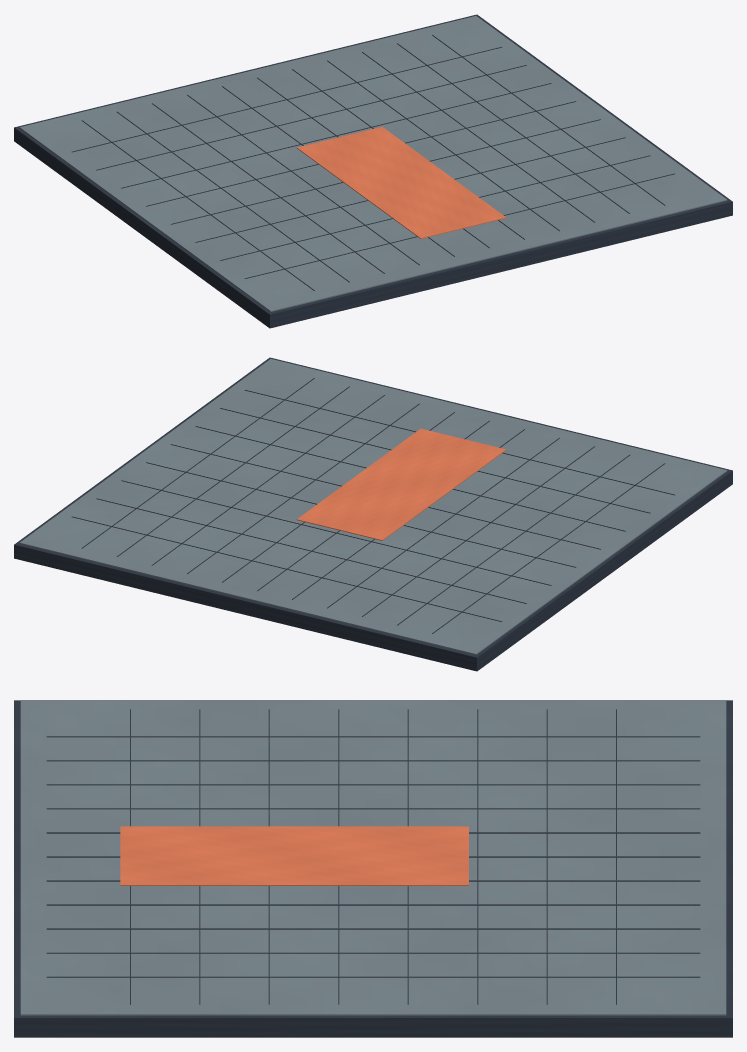
The model's file is atlas100-s021-a07.glb.
The picture shows the model from 3 angles, top to bottom: view 1: azimuth 30°, elevation 25°; view 2: azimuth 150°, elevation 25°; view 3: azimuth 270°, elevation 25°; orthographic projection. The views are drawn at different scales.
Visible parts, largest first — view 1: atlas100-s021-a07:part-001, atlas100-s021-a07:part-000, atlas100-s021-a07:part-021, atlas100-s021-a07:part-013, atlas100-s021-a07:part-014, atlas100-s021-a07:part-015, atlas100-s021-a07:part-020, atlas100-s021-a07:part-018, atlas100-s021-a07:part-019, atlas100-s021-a07:part-017, atlas100-s021-a07:part-016; view 2: atlas100-s021-a07:part-001, atlas100-s021-a07:part-000, atlas100-s021-a07:part-021, atlas100-s021-a07:part-013, atlas100-s021-a07:part-015, atlas100-s021-a07:part-014, atlas100-s021-a07:part-020, atlas100-s021-a07:part-016, atlas100-s021-a07:part-017, atlas100-s021-a07:part-018, atlas100-s021-a07:part-019; view 3: atlas100-s021-a07:part-001, atlas100-s021-a07:part-000, atlas100-s021-a07:part-021, atlas100-s021-a07:part-010, atlas100-s021-a07:part-009, atlas100-s021-a07:part-012, atlas100-s021-a07:part-002, atlas100-s021-a07:part-003, atlas100-s021-a07:part-004, atlas100-s021-a07:part-005, atlas100-s021-a07:part-011, atlas100-s021-a07:part-006 (+4 smaller).
Boxes of the visible parts, x1=… form: atlas100-s021-a07:part-001: x1=19, y1=16, x2=727, y2=311; atlas100-s021-a07:part-000: x1=14, y1=14, x2=732, y2=328; atlas100-s021-a07:part-021: x1=297, y1=126, x2=506, y2=238; atlas100-s021-a07:part-013: x1=72, y1=47, x2=502, y2=152; atlas100-s021-a07:part-014: x1=96, y1=65, x2=526, y2=170; atlas100-s021-a07:part-015: x1=121, y1=83, x2=551, y2=188; atlas100-s021-a07:part-020: x1=244, y1=173, x2=674, y2=278; atlas100-s021-a07:part-018: x1=195, y1=137, x2=625, y2=242; atlas100-s021-a07:part-019: x1=220, y1=155, x2=650, y2=260; atlas100-s021-a07:part-017: x1=170, y1=119, x2=600, y2=224; atlas100-s021-a07:part-016: x1=146, y1=101, x2=576, y2=206; atlas100-s021-a07:part-001: x1=19, y1=359, x2=727, y2=654; atlas100-s021-a07:part-000: x1=14, y1=357, x2=732, y2=671; atlas100-s021-a07:part-021: x1=296, y1=428, x2=506, y2=540; atlas100-s021-a07:part-013: x1=72, y1=516, x2=502, y2=621; atlas100-s021-a07:part-015: x1=121, y1=480, x2=551, y2=585; atlas100-s021-a07:part-014: x1=96, y1=498, x2=526, y2=603; atlas100-s021-a07:part-020: x1=244, y1=390, x2=674, y2=495; atlas100-s021-a07:part-016: x1=146, y1=462, x2=576, y2=567; atlas100-s021-a07:part-017: x1=170, y1=444, x2=600, y2=549; atlas100-s021-a07:part-018: x1=195, y1=426, x2=625, y2=531; atlas100-s021-a07:part-019: x1=220, y1=408, x2=650, y2=513; atlas100-s021-a07:part-001: x1=20, y1=701, x2=726, y2=1015; atlas100-s021-a07:part-000: x1=14, y1=700, x2=732, y2=1037; atlas100-s021-a07:part-021: x1=120, y1=826, x2=468, y2=885; atlas100-s021-a07:part-010: x1=46, y1=928, x2=700, y2=929; atlas100-s021-a07:part-009: x1=46, y1=904, x2=700, y2=905; atlas100-s021-a07:part-012: x1=46, y1=976, x2=700, y2=977; atlas100-s021-a07:part-002: x1=46, y1=736, x2=700, y2=737; atlas100-s021-a07:part-003: x1=46, y1=760, x2=700, y2=761; atlas100-s021-a07:part-004: x1=46, y1=784, x2=700, y2=785; atlas100-s021-a07:part-005: x1=46, y1=808, x2=700, y2=809; atlas100-s021-a07:part-011: x1=46, y1=952, x2=700, y2=953; atlas100-s021-a07:part-006: x1=46, y1=832, x2=700, y2=833.
Size of the model in its own units: 11.9 by 0.404 by 11.39.
Materials: 3 (3 with a texture image).
